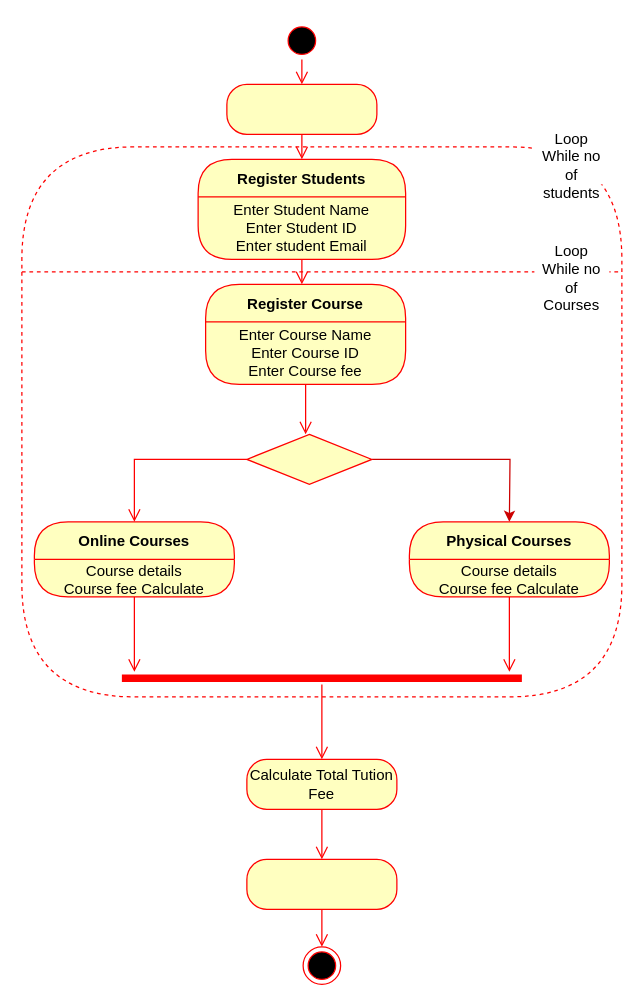
Some shapes in this 644 by 1006 pixel diagram are drawn without their labels. The box of each missing label's shape, as (x1, y1, x2, y2) in pixels:
Course Type: (246, 433, 372, 484)
Display Students Records: (246, 858, 397, 909)
Enter no of Students: (226, 83, 377, 134)
